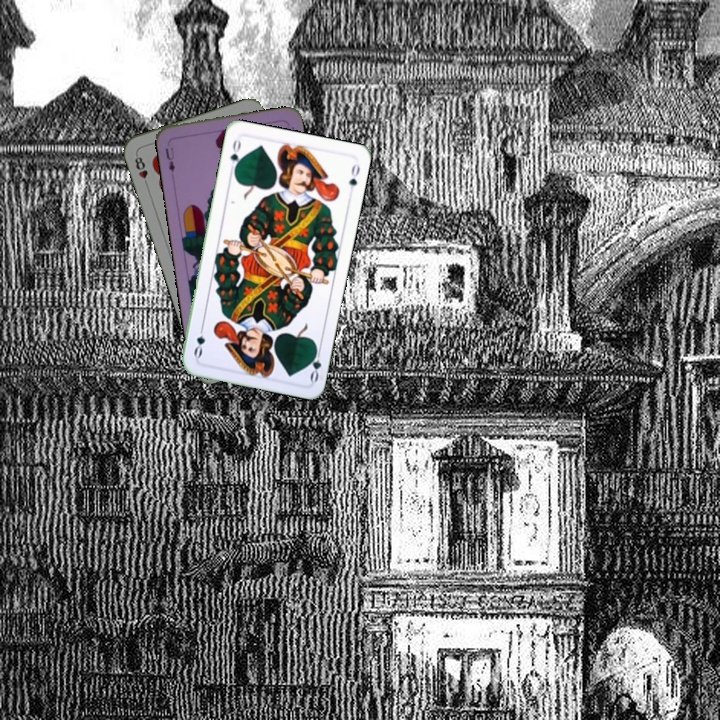EU: (161, 143, 177, 175)
GO: (305, 343, 324, 384), (226, 135, 244, 176)
H8: (131, 150, 151, 190)
